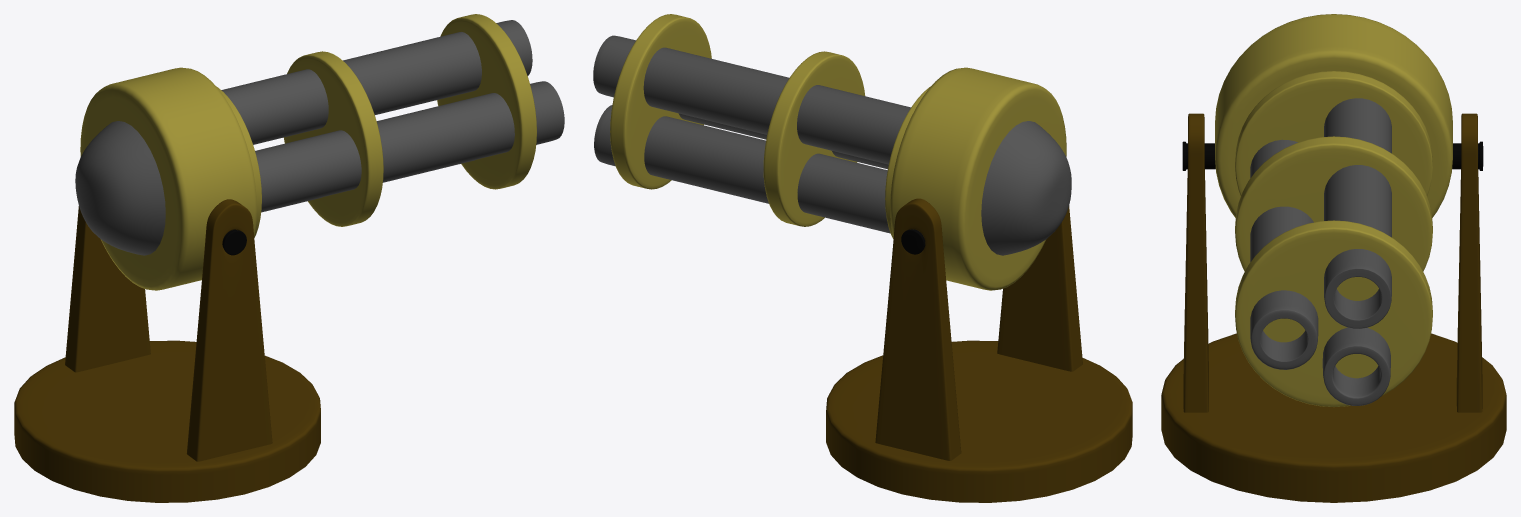
Rendered from canon_v3_ydays.fbx.
3 renders of one model, left to right at view 1: azimuth 30°, elevation 25°; view 2: azimuth 150°, elevation 25°; view 3: azimuth 270°, elevation 25°, orthographic. The views are drawn at different scales.
Parts seen in each view (by area): view 1: canon; view 2: canon; view 3: canon.
Boxes of the visible parts, x1,y1,x2,y2 form: canon: (14, 14, 564, 502); canon: (593, 14, 1132, 502); canon: (1161, 14, 1506, 502).
Bounding box in the file's own units: 6.67 × 4.58 × 3.6.
